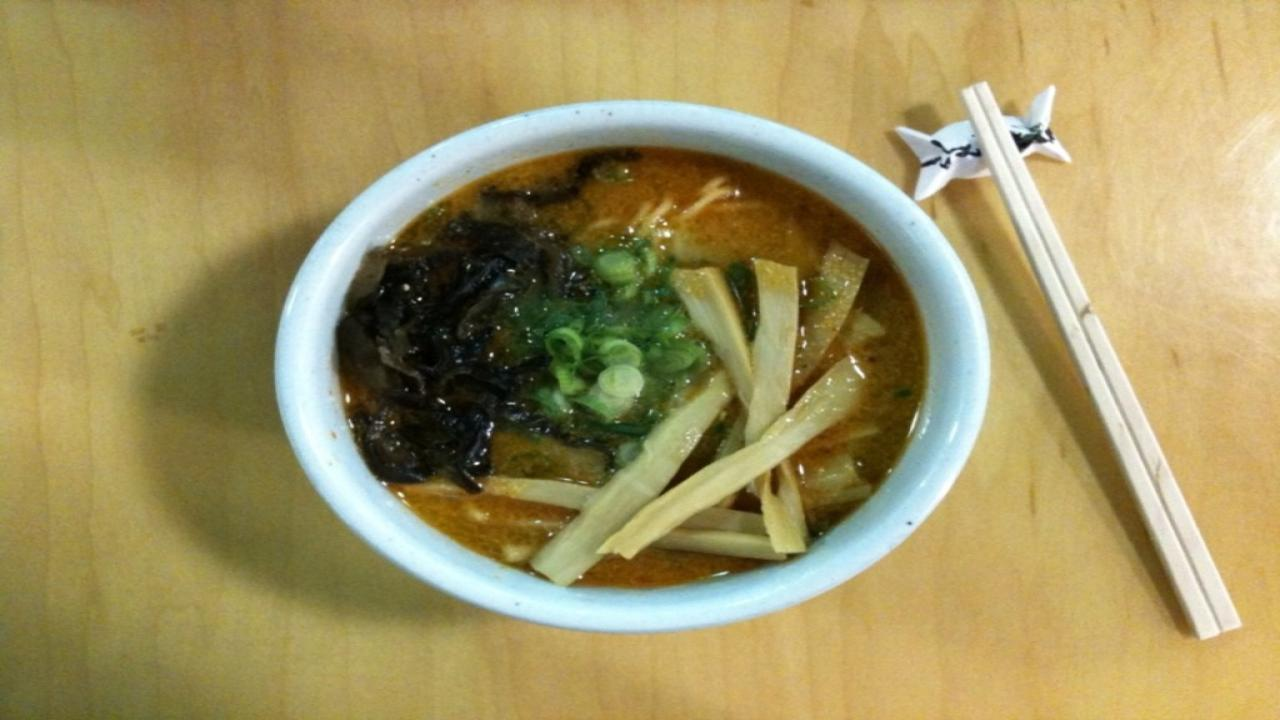chopstick: (968, 84, 1243, 638)
